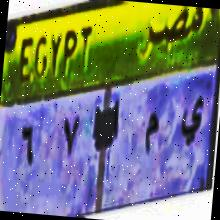6: (16, 120, 38, 174)
7: (60, 109, 81, 167)
alif: (108, 92, 126, 142)
meem: (138, 105, 164, 172)
yaa: (177, 93, 208, 155)
